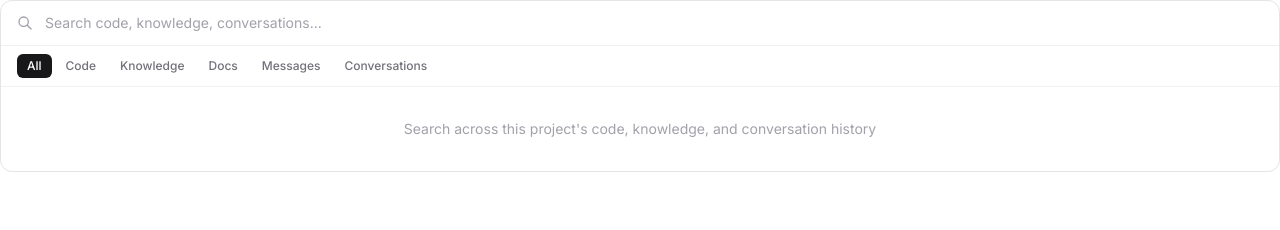
Test: SearchPanel › shows result count footer
Type "test" into the field with placeholder "Search code, knowledge, conversations..." at (654, 23), box [45,13,1263,33]
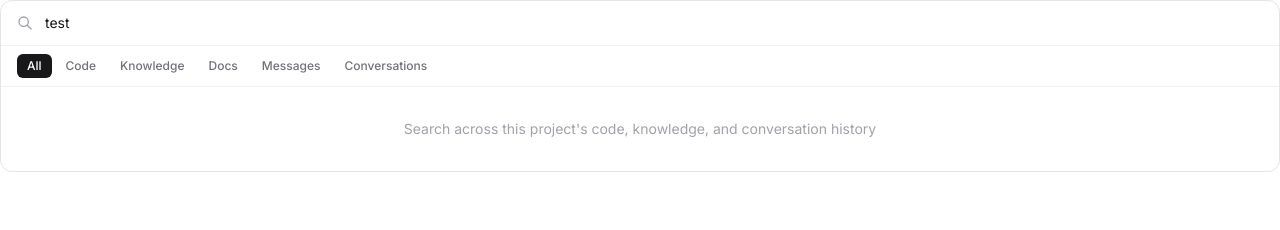
Press Enter in the field with placeholder "Search code, knowledge, conversations...", box [45,13,1263,33]
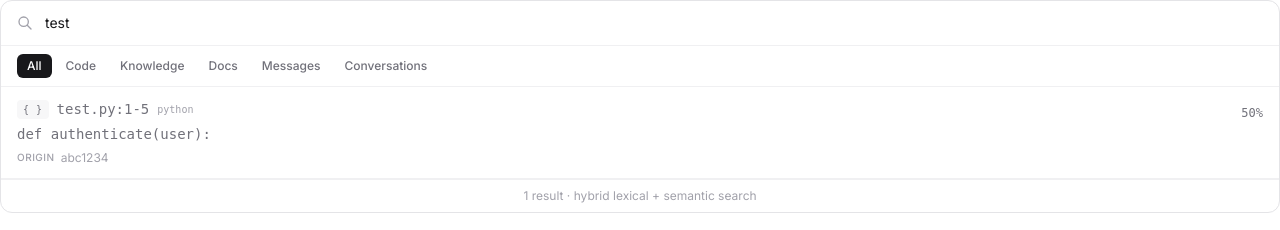
Expected: the text "1 result · hybrid lexical + semantic search" is shown, [1,179,1279,212]
